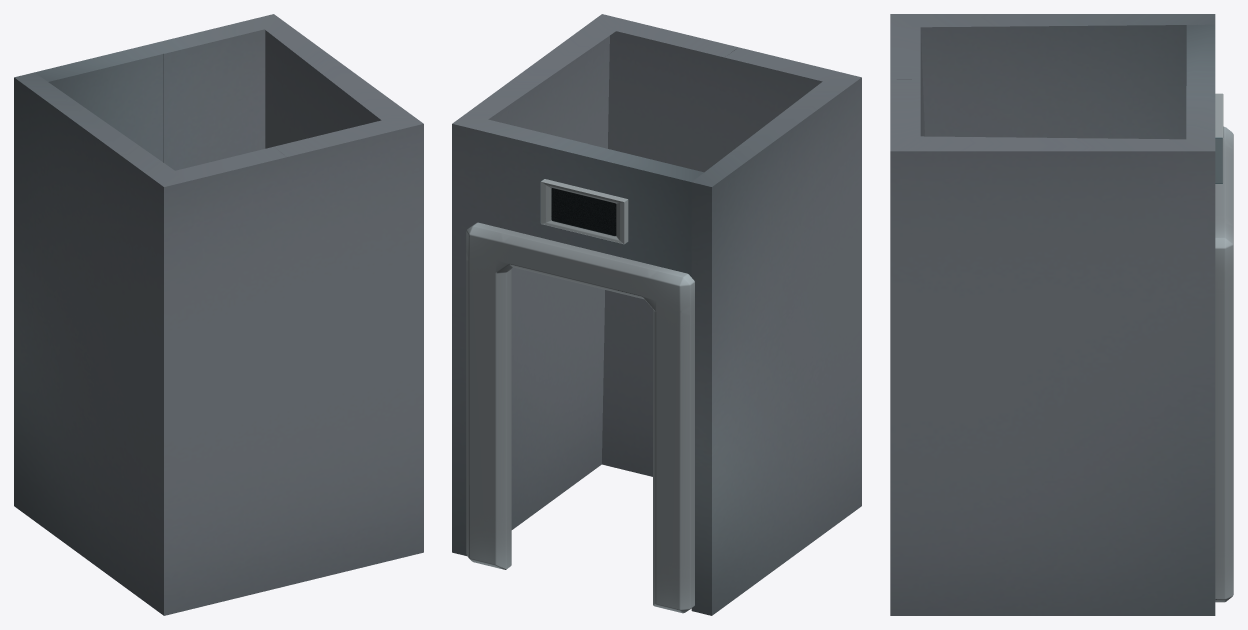
The model's file is lift model v4 100x.fbx.
3 renders of one model, left to right at view 1: azimuth 30°, elevation 25°; view 2: azimuth 150°, elevation 25°; view 3: azimuth 270°, elevation 25°, orthographic. The views are drawn at different scales.
Parts seen in each view (by area): view 1: base; view 2: base, zuil, schermpje; view 3: base, zuil, schermpje.
Boxes of the visible parts, x1,y1,x2,y2 form: base: (14, 14, 423, 615); base: (452, 14, 861, 615); zuil: (466, 222, 694, 613); schermpje: (540, 179, 628, 244); base: (890, 14, 1215, 615); zuil: (1215, 126, 1233, 602); schermpje: (1215, 93, 1223, 183).
Bounding box in the file's own units: 200 × 316 × 211.
Materials: 1 (1 with a texture image).
